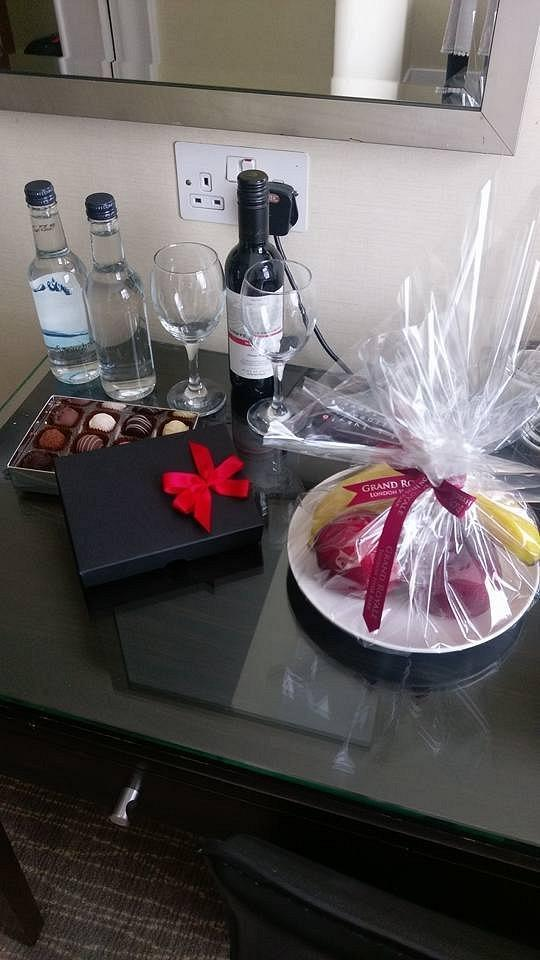organized table: (0, 299, 539, 849)
